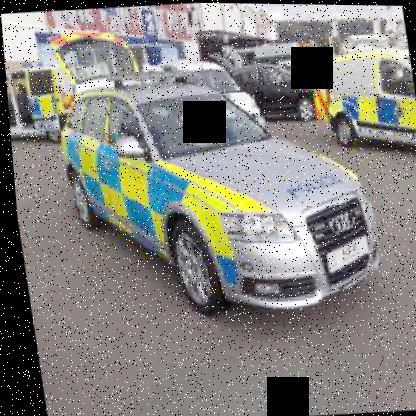emergency: (37, 44, 391, 363)
